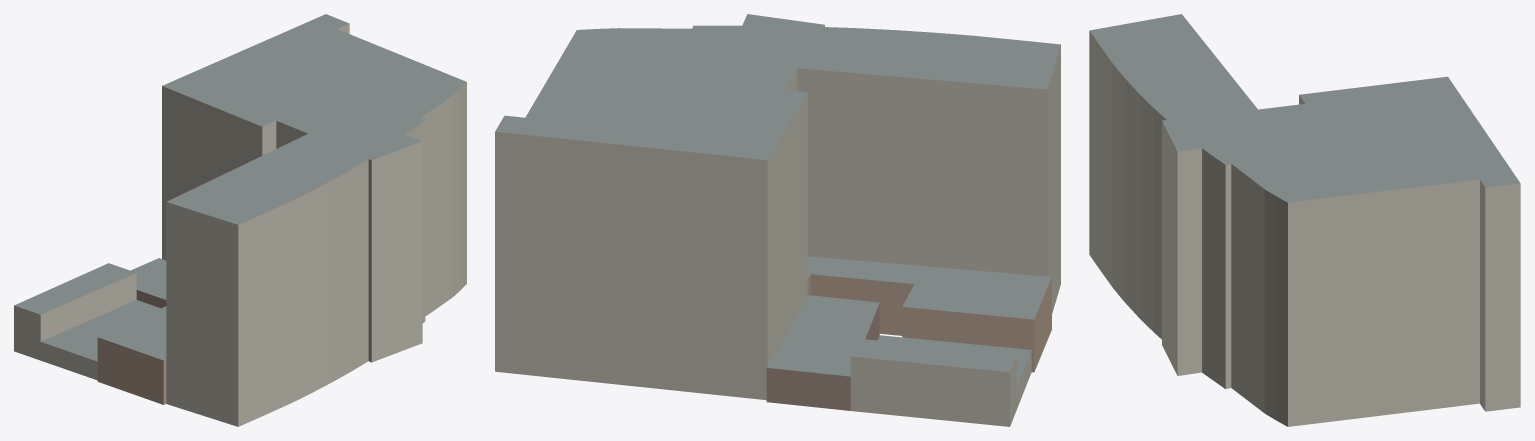
The picture shows the model from 3 angles, left to right: view 1: azimuth 30°, elevation 25°; view 2: azimuth 150°, elevation 25°; view 3: azimuth 270°, elevation 25°; orthographic projection. The views are drawn at different scales.
Parts seen in each view (by area): view 1: F4; view 2: F4; view 3: F4.
Part boxes in pixels (<box>): F4: <box>14,14,466,426</box>; F4: <box>495,14,1060,426</box>; F4: <box>1089,14,1520,426</box>.
Bounding box in the file's own units: 102 × 48.29 × 84.12.
